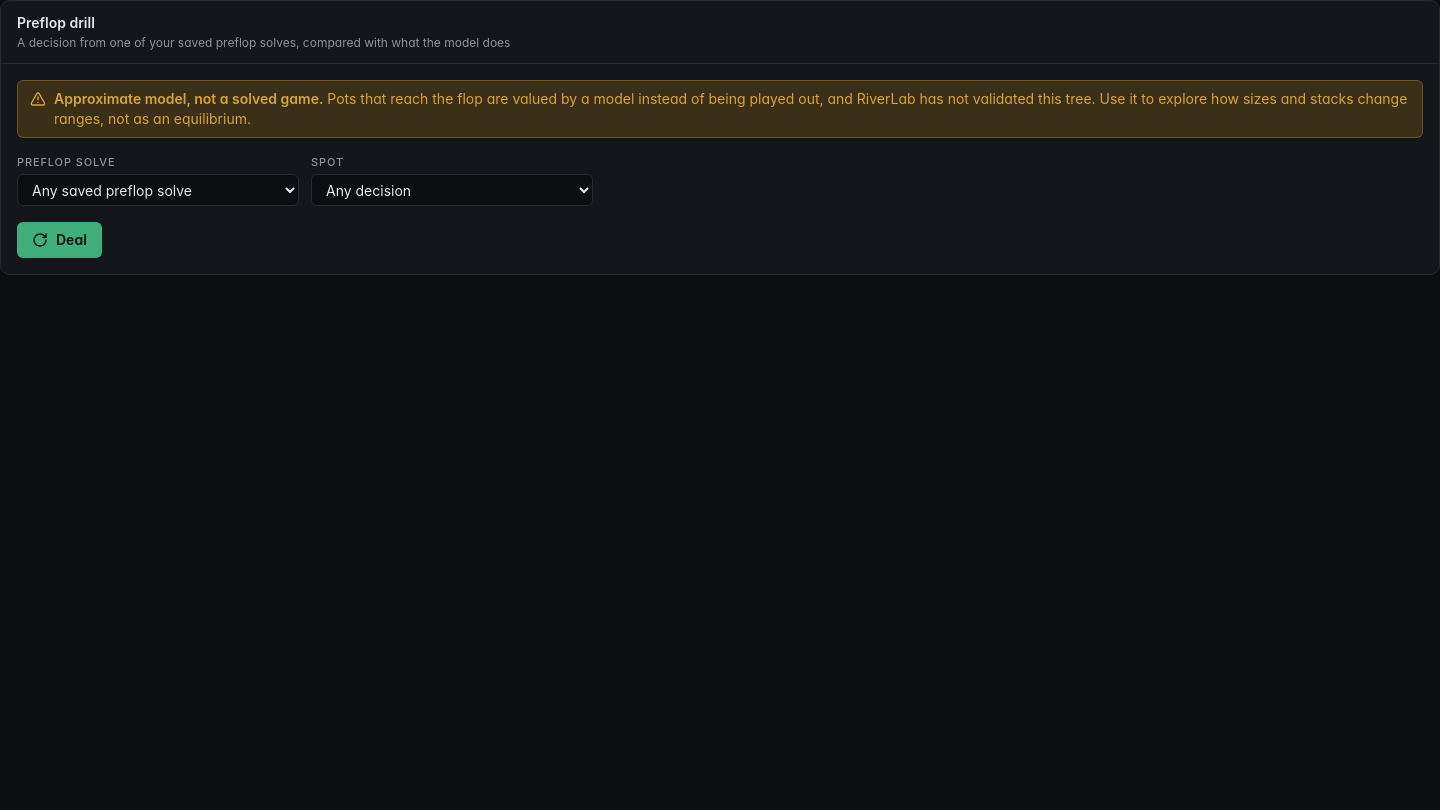
Test: preflop trainer › deals from a saved preflop solve, labels the model and grades by frequency
Expected: the element that starts with "Approximate model, not a solved game." is shown, [54, 90, 323, 107]
Select "Facing a raise" in the dropdown labelled "Spot". click: [452, 190]
box: [311, 174, 593, 206]
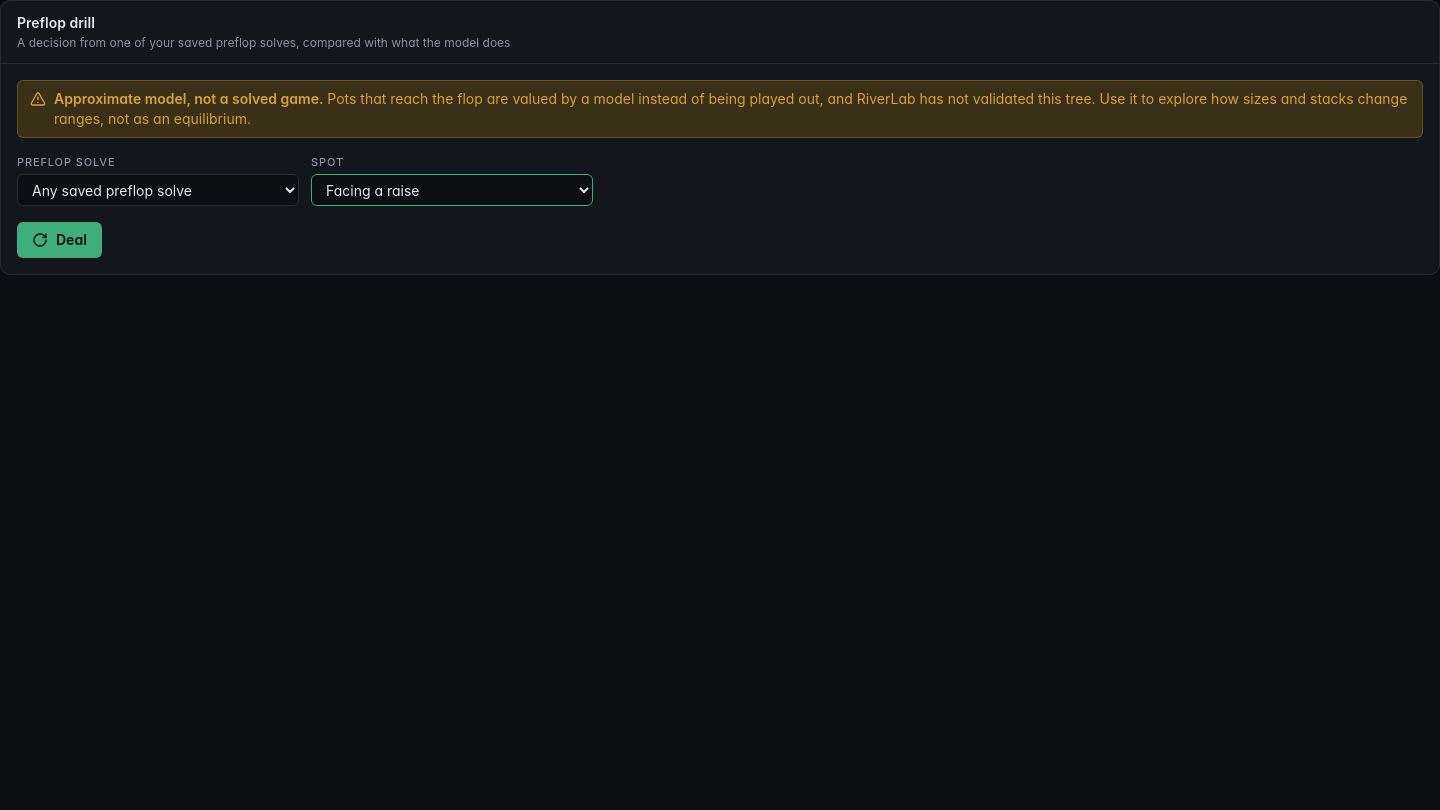
Click the button "Deal". click: [59, 240]
box: [17, 222, 102, 258]
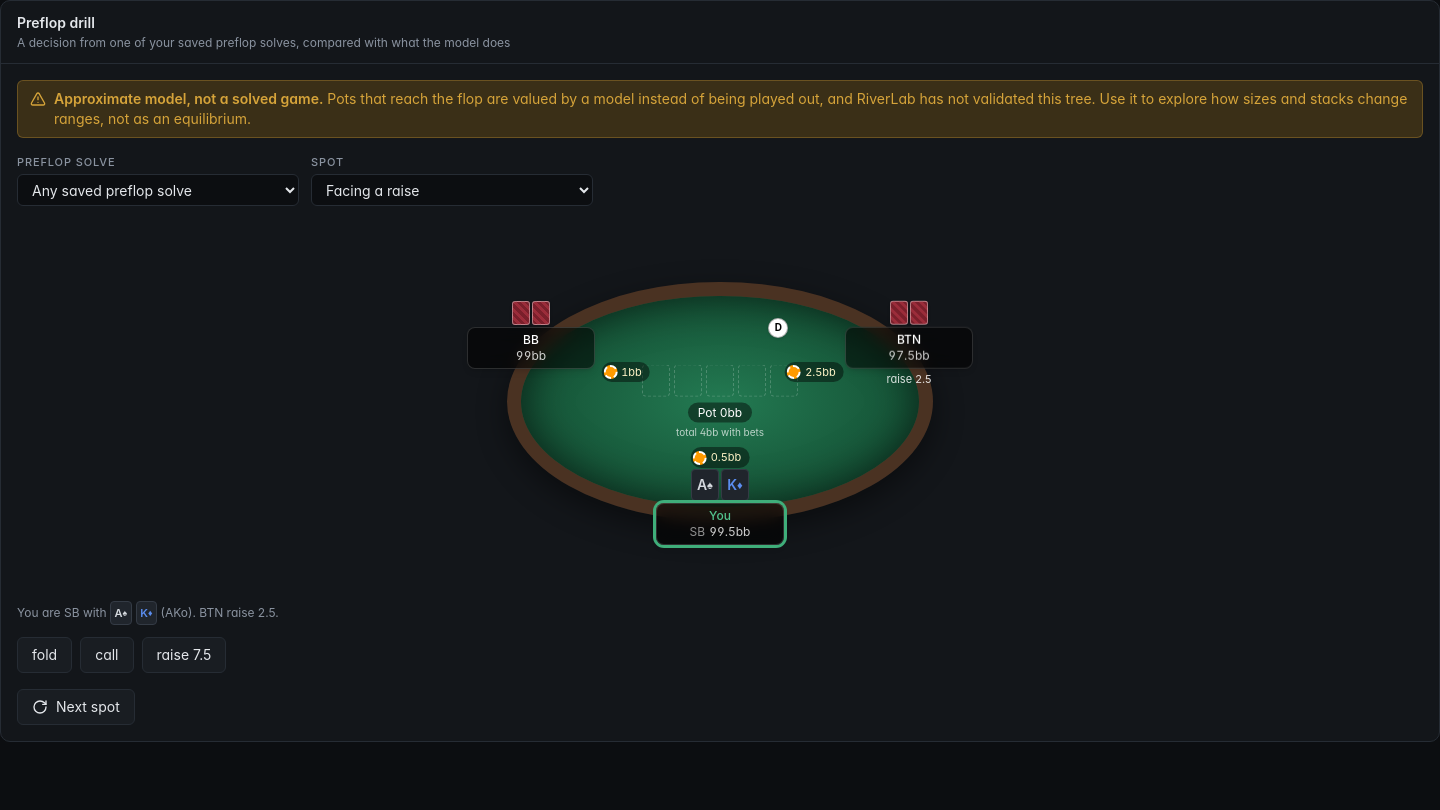
Result: the text "You are SB with A ♠ K ♦ (AKo). BTN raise 2.5." is shown at [17, 601, 279, 625]
Click the button "call". click: [107, 655]
box: [80, 637, 134, 673]
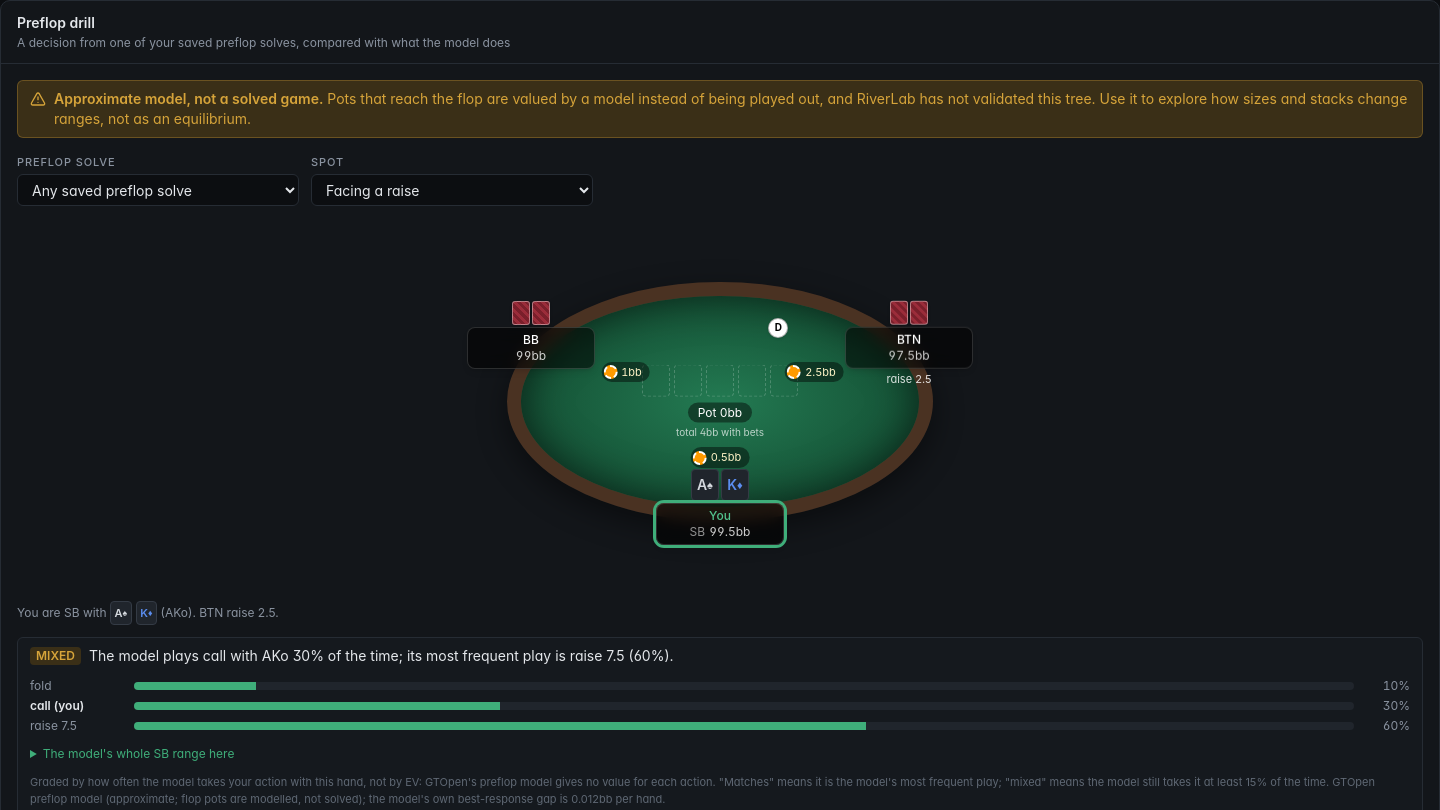
Result: the text "Mixed" is shown at [30, 647, 81, 665]
Result: the text "plays call with AKo 30% of the time; its most frequent play is raise 7.5 (60%)" is shown at [89, 646, 674, 666]
Result: the text "not by EV" is shown at [30, 775, 1245, 789]
